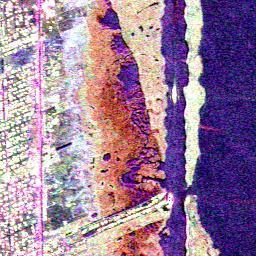Ship: (170, 80, 179, 105)
